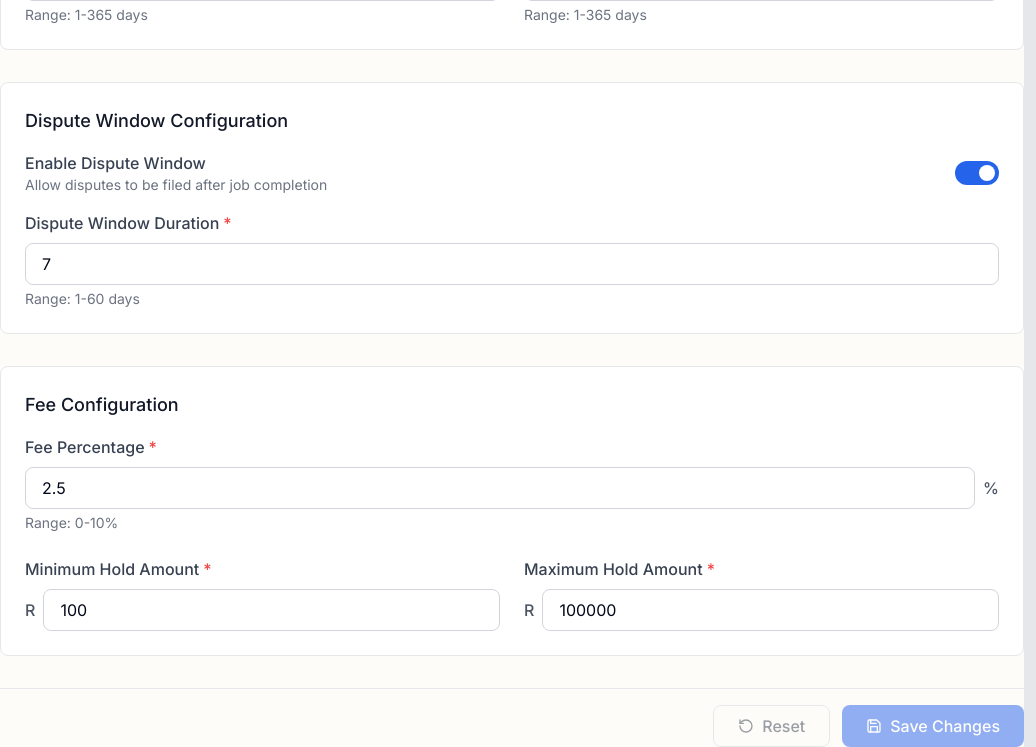
Scenario: SettingsForm › should reset form to original values
(page scrolled)
Replace the text in the number field labelled "Fee Percentage*" with "5.0" at (500, 488), box [25,467,975,509]
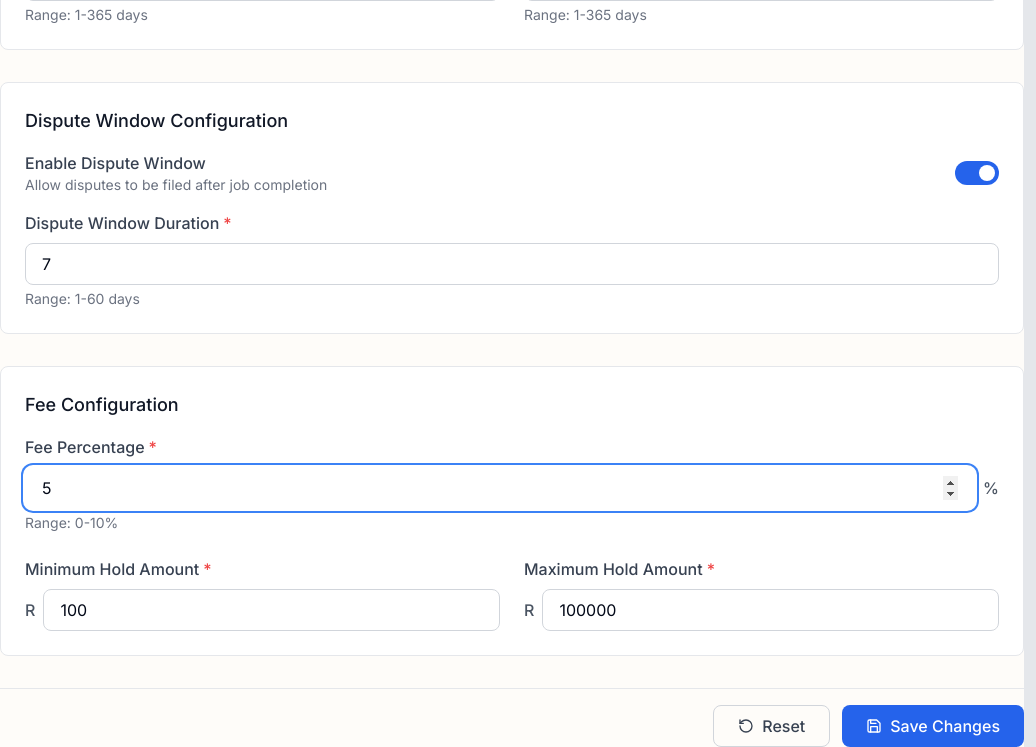
Click the button "Reset" at (772, 726), box [713,705,830,746]
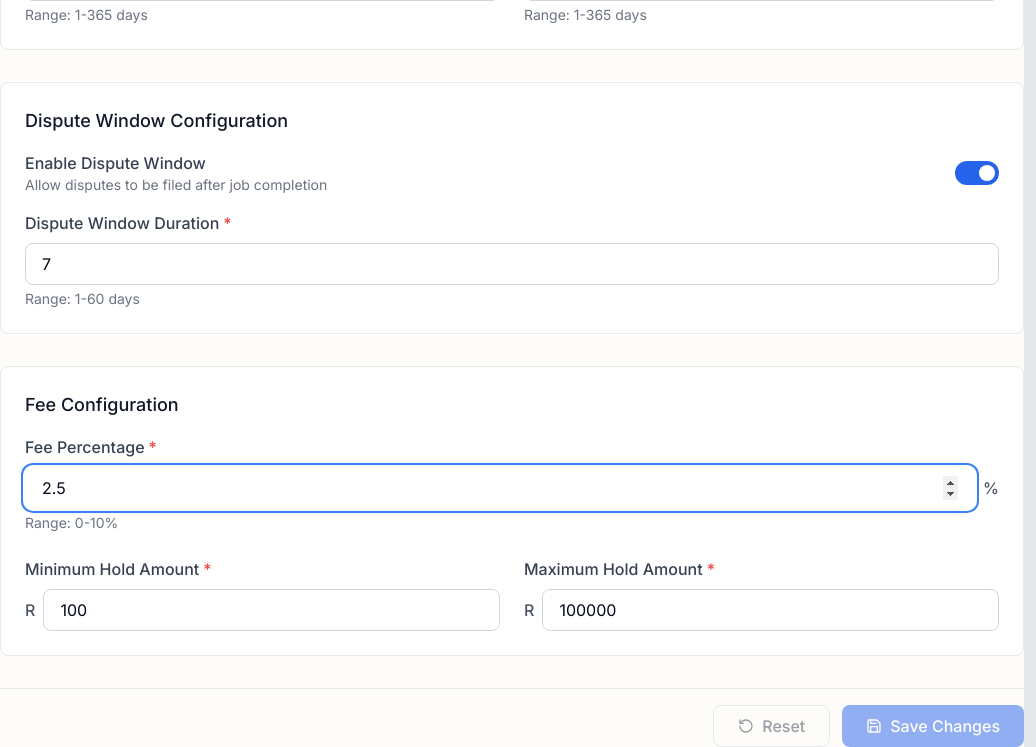
Result: the number field labelled "Fee Percentage*" holds "2.5" at [25,467,975,509]
